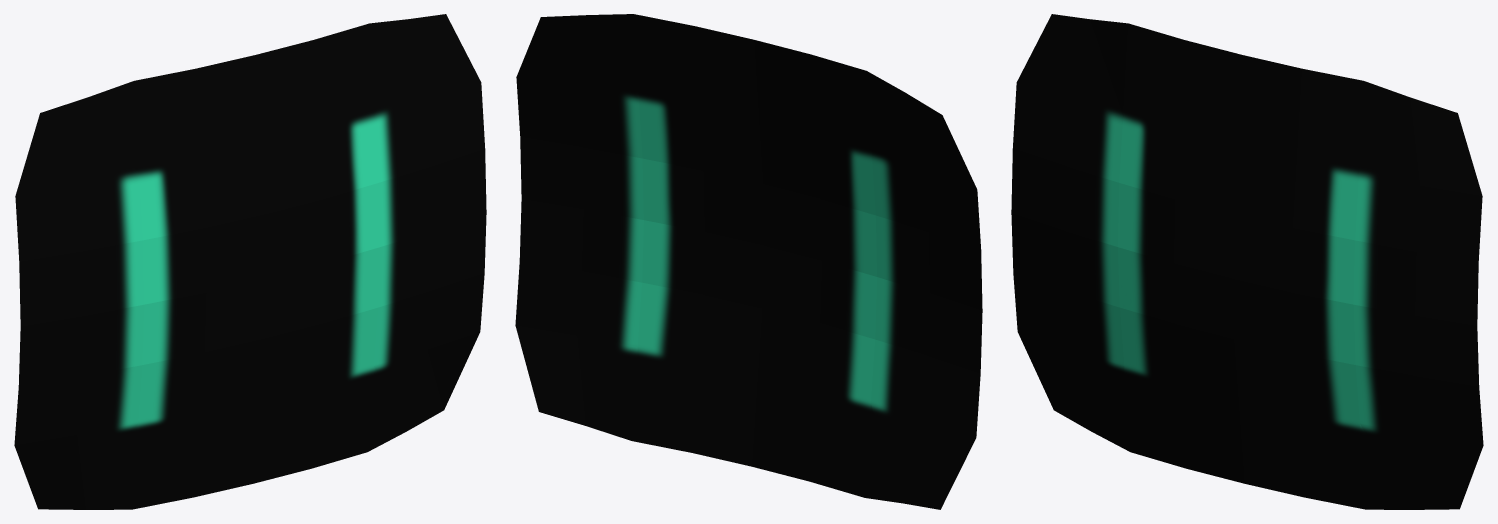
The model's file is player_face.obj.
3 views of the same model, side by side, from view 1: azimuth 30°, elevation 25°; view 2: azimuth 150°, elevation 25°; view 3: azimuth 330°, elevation 25° (orthographic).
Parts seen in each view (by area): view 1: Face; view 2: Face; view 3: Face.
Boxes of the visible parts, box(x1,y1,x2,y2) form: Face: box(14, 14, 486, 509); Face: box(515, 14, 982, 509); Face: box(1011, 14, 1483, 509).
Bounding box in the file's own units: 1.98 × 1.74 × 0.1823.
Materials: 1 (1 with a texture image).
